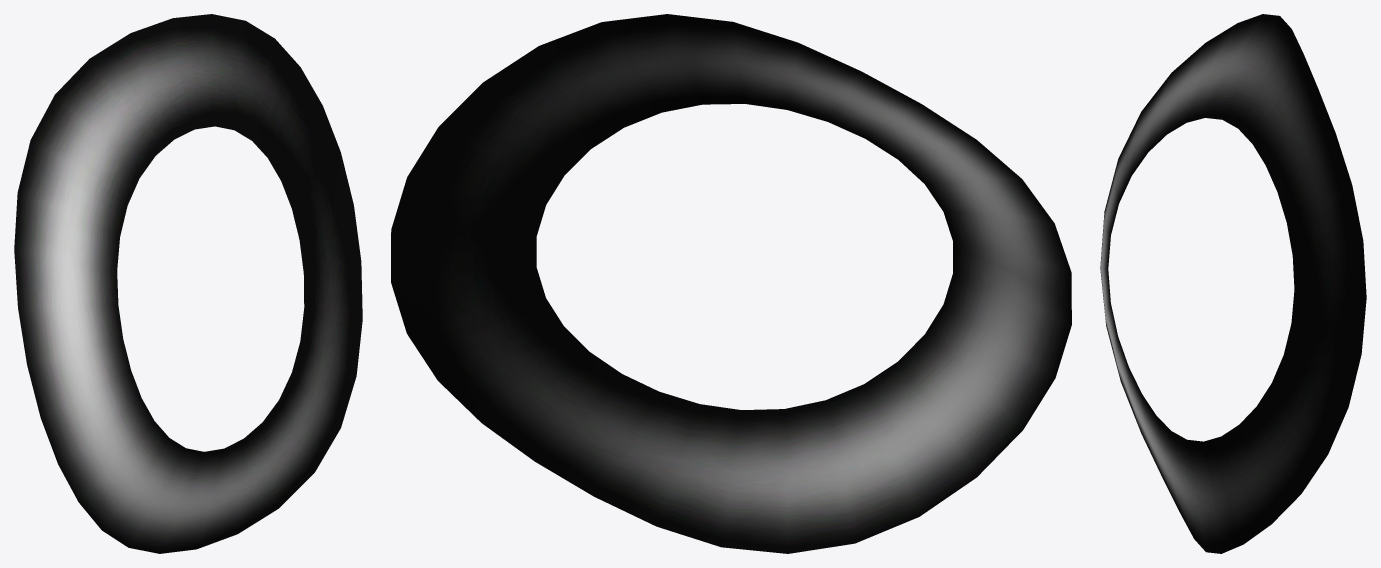
File: vfx_kurp_0730.dae
The picture shows the model from 3 angles, left to right: view 1: azimuth 30°, elevation 25°; view 2: azimuth 150°, elevation 25°; view 3: azimuth 270°, elevation 25°; orthographic projection. The views are drawn at different scales.
Parts seen in each view (by area): view 1: vfx_kurp_0730; view 2: vfx_kurp_0730; view 3: vfx_kurp_0730.
Part boxes in pixels (x1,y1,x2,y2): vfx_kurp_0730: (14,14,362,553); vfx_kurp_0730: (391,14,1071,553); vfx_kurp_0730: (1100,14,1366,553).
Bounding box in the file's own units: 7.53 × 3.92 × 7.81.
Materials: 1 (1 with a texture image).
